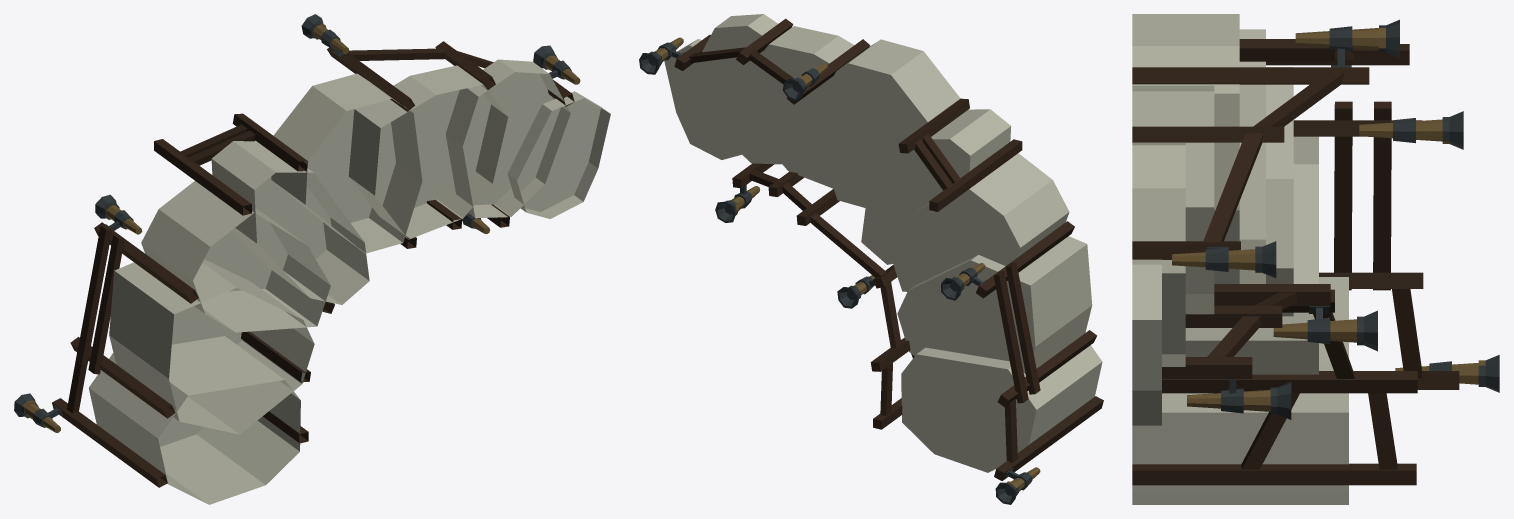
File: Stairs 01.FBX
3 renders of one model, left to right at view 1: azimuth 30°, elevation 25°; view 2: azimuth 150°, elevation 25°; view 3: azimuth 270°, elevation 25°, orthographic. The views are drawn at different scales.
Parts seen in each view (by area): view 1: Stairs 01, Stair 01 Torches; view 2: Stairs 01, Stair 01 Torches; view 3: Stairs 01, Stair 01 Torches.
Part boxes in pixels (x1,y1,x2,y2): Stairs 01: [52, 41, 610, 504]; Stair 01 Torches: [14, 14, 580, 432]; Stairs 01: [664, 14, 1103, 480]; Stair 01 Torches: [639, 37, 1040, 504]; Stairs 01: [1132, 14, 1459, 504]; Stair 01 Torches: [1172, 19, 1499, 419].
Size of the model in its own units: 495 by 211 by 377.
